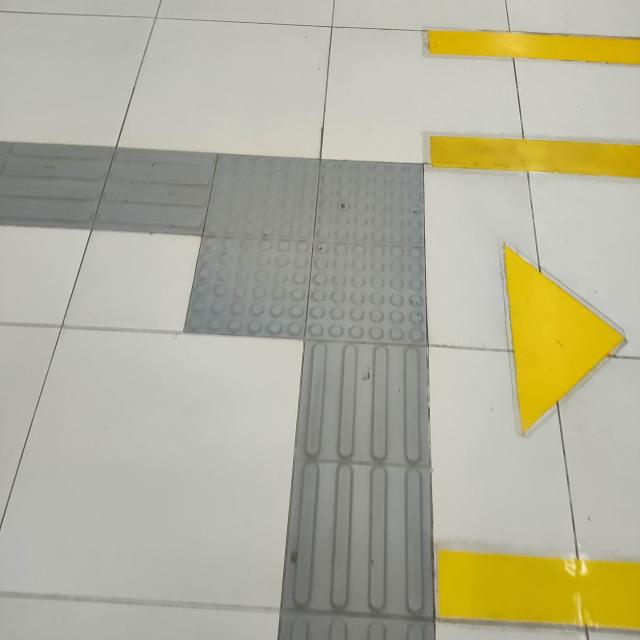kiri: (20, 104, 511, 440)
